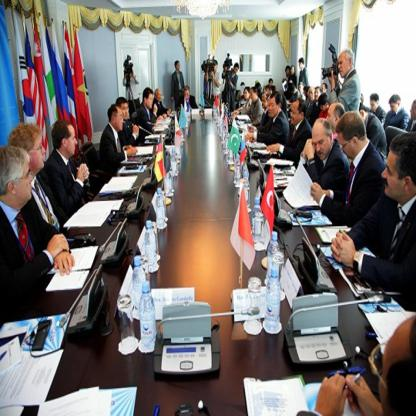face: (383, 153, 406, 199), (14, 165, 34, 200), (30, 135, 46, 170), (313, 132, 330, 161), (339, 135, 356, 162), (66, 128, 78, 156), (339, 54, 350, 77), (326, 109, 337, 131), (292, 105, 302, 125), (115, 111, 124, 131), (271, 98, 278, 118), (122, 102, 129, 120), (391, 103, 399, 116), (267, 102, 273, 118), (148, 95, 154, 109), (411, 103, 416, 119), (371, 101, 378, 112), (315, 90, 321, 101), (251, 91, 257, 102), (309, 90, 315, 100), (263, 96, 268, 107), (322, 86, 328, 95), (299, 85, 305, 94), (321, 105, 327, 114), (245, 90, 250, 99), (158, 92, 163, 101), (185, 91, 190, 100), (300, 62, 304, 70), (286, 69, 290, 77), (213, 63, 217, 71), (235, 67, 239, 74), (270, 90, 274, 96), (304, 90, 307, 97), (292, 67, 295, 74), (270, 80, 273, 86), (266, 87, 269, 93), (177, 63, 180, 69)
